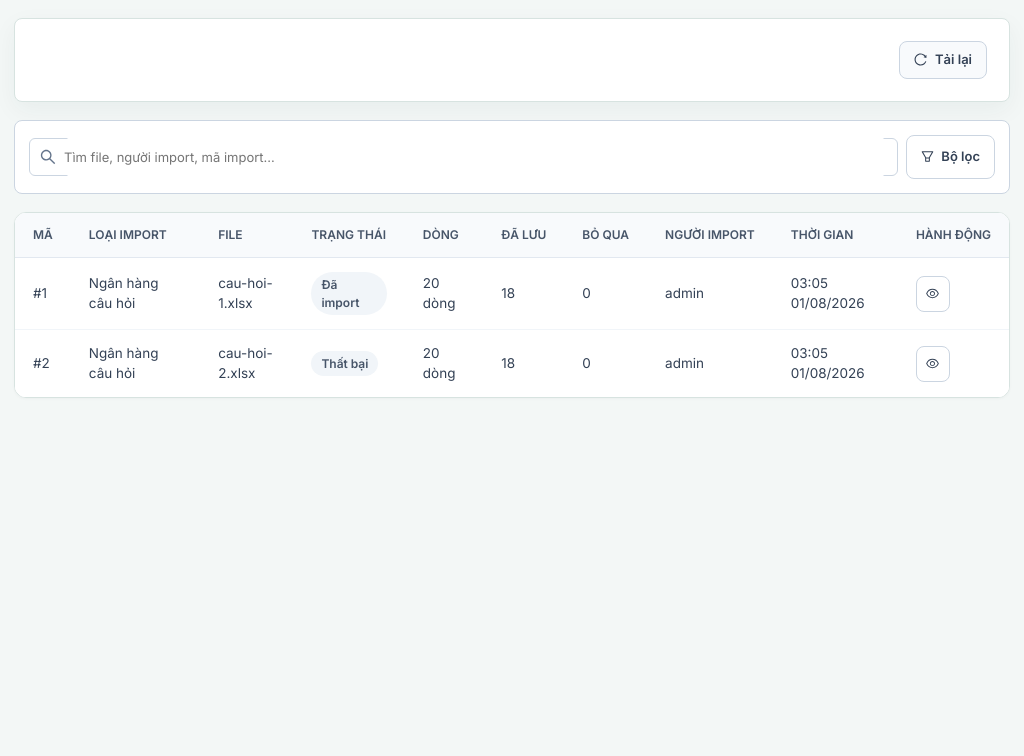
EvaluationImportHistoryPage - chi tiết import › dùng loại import khi chi tiết không có tên file
Expected: the text "#1" is shown, [15, 258, 71, 330]
Click the button titled "Xem chi tiết" in the row of "cau-hoi-1.xlsx". click: point(933, 294)
box: [916, 276, 950, 312]
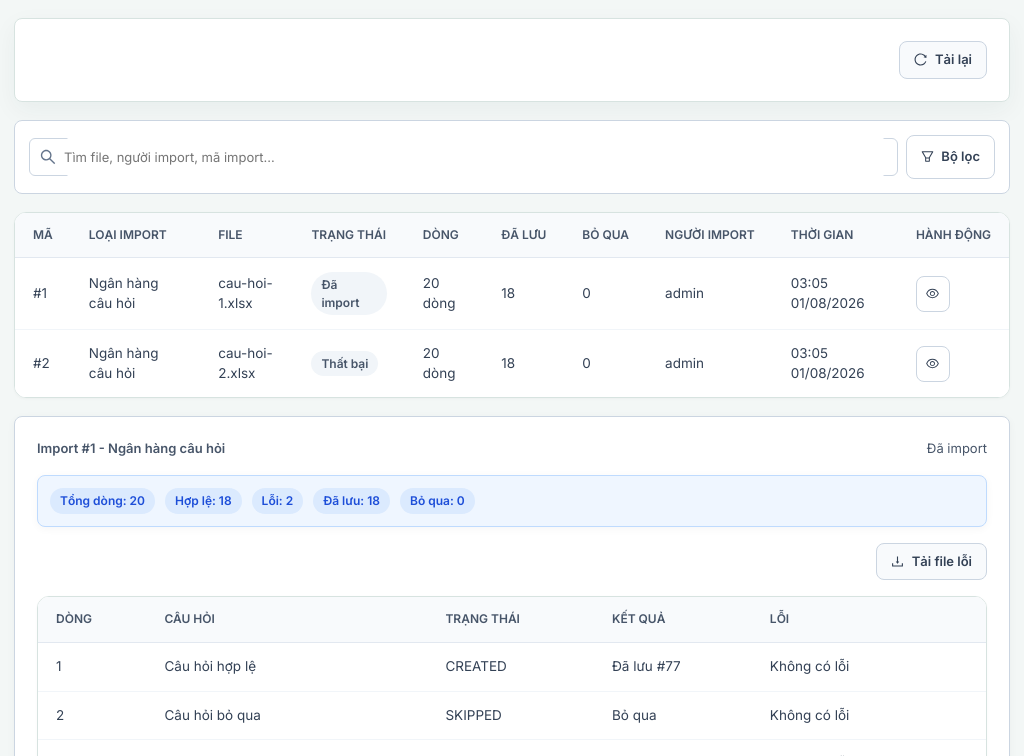
Expected: the text "Import #1 - Ngân hàng câu hỏi" is shown, [37, 439, 225, 459]
